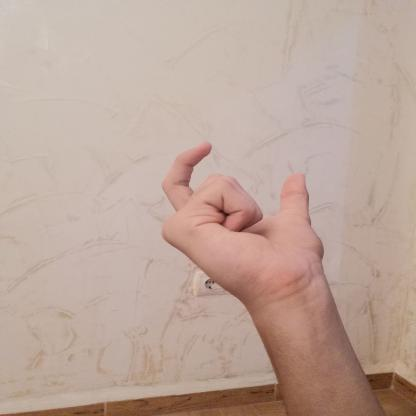NOON: (141, 133, 337, 312)
